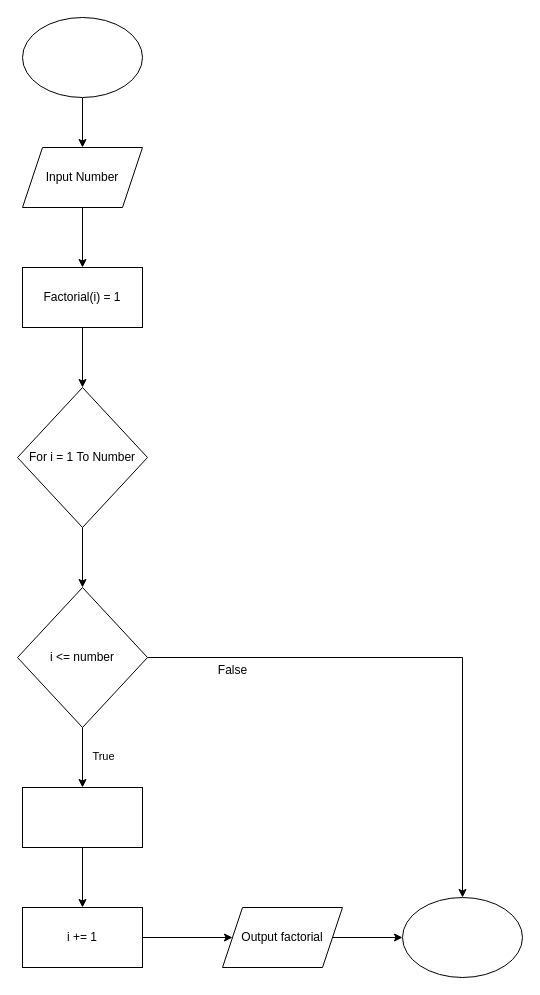
Image size: 540x995. Some labels were removed from this diagram. The shapes that lost their labels are listed below. From the top down, each one's centre as x and y in pixels, then its label:
(x=82, y=57): Start
(x=82, y=817): Factorial = Factorial * 1
(x=462, y=937): End
